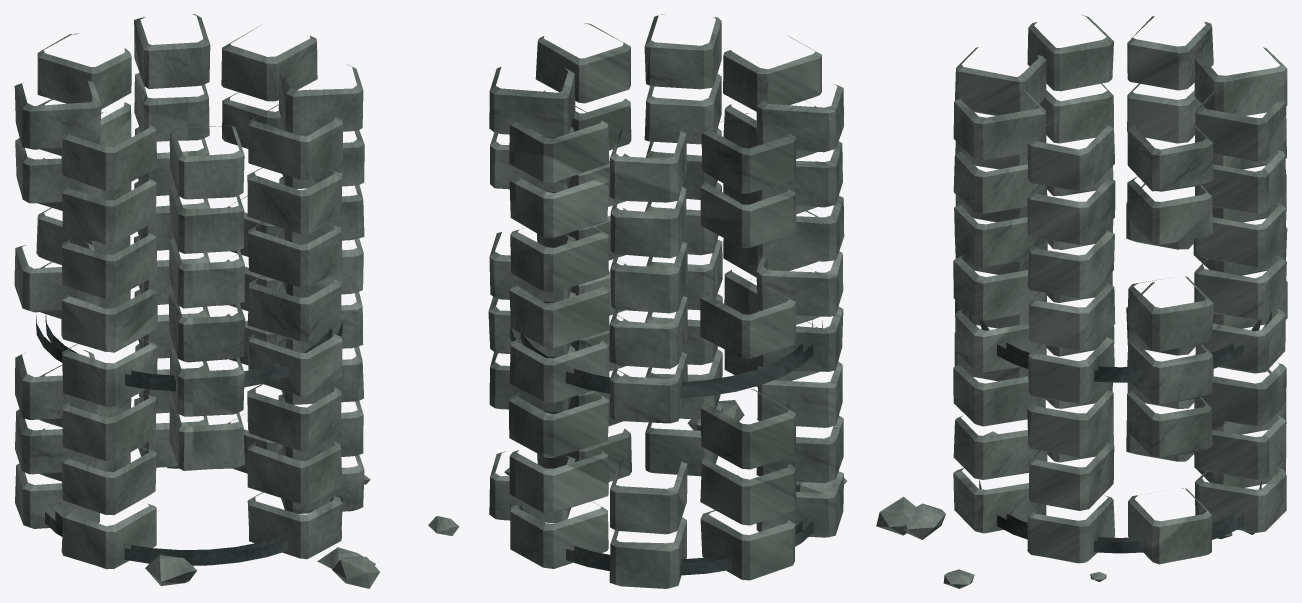
The model's file is 0401_ruined_tower_01.glb.
3 renders of one model, left to right at view 1: azimuth 30°, elevation 25°; view 2: azimuth 150°, elevation 25°; view 3: azimuth 270°, elevation 25°, orthographic. The views are drawn at different scales.
Visible parts, largest first — view 1: stone, stone_dark; view 2: stone, stone_dark; view 3: stone, stone_dark.
Boxes of the visible parts, box(x1,y1,x2,y2) form: stone: box(14, 14, 459, 588); stone_dark: box(36, 312, 342, 565); stone: box(488, 14, 846, 588); stone_dark: box(510, 319, 822, 575); stone: box(876, 14, 1287, 588); stone_dark: box(969, 312, 1271, 553).
Bounding box in the file's own units: 2.7 × 3.36 × 2.95.
2 materials, 2 textured.
